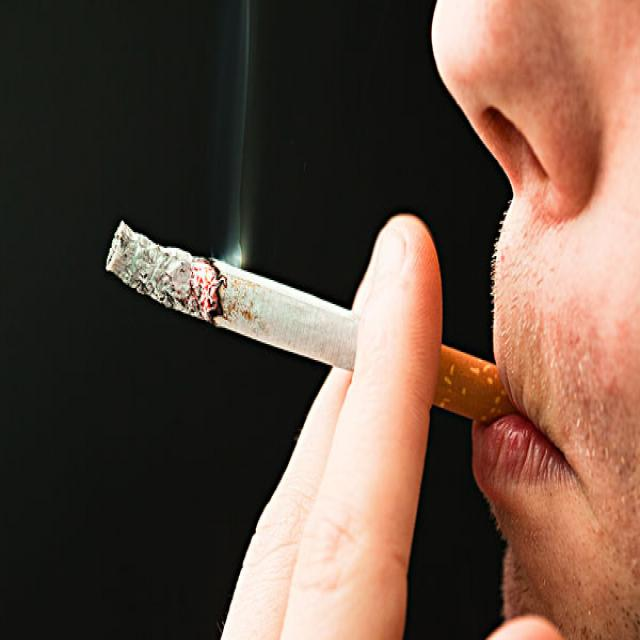smoking: (105, 220, 492, 428)
